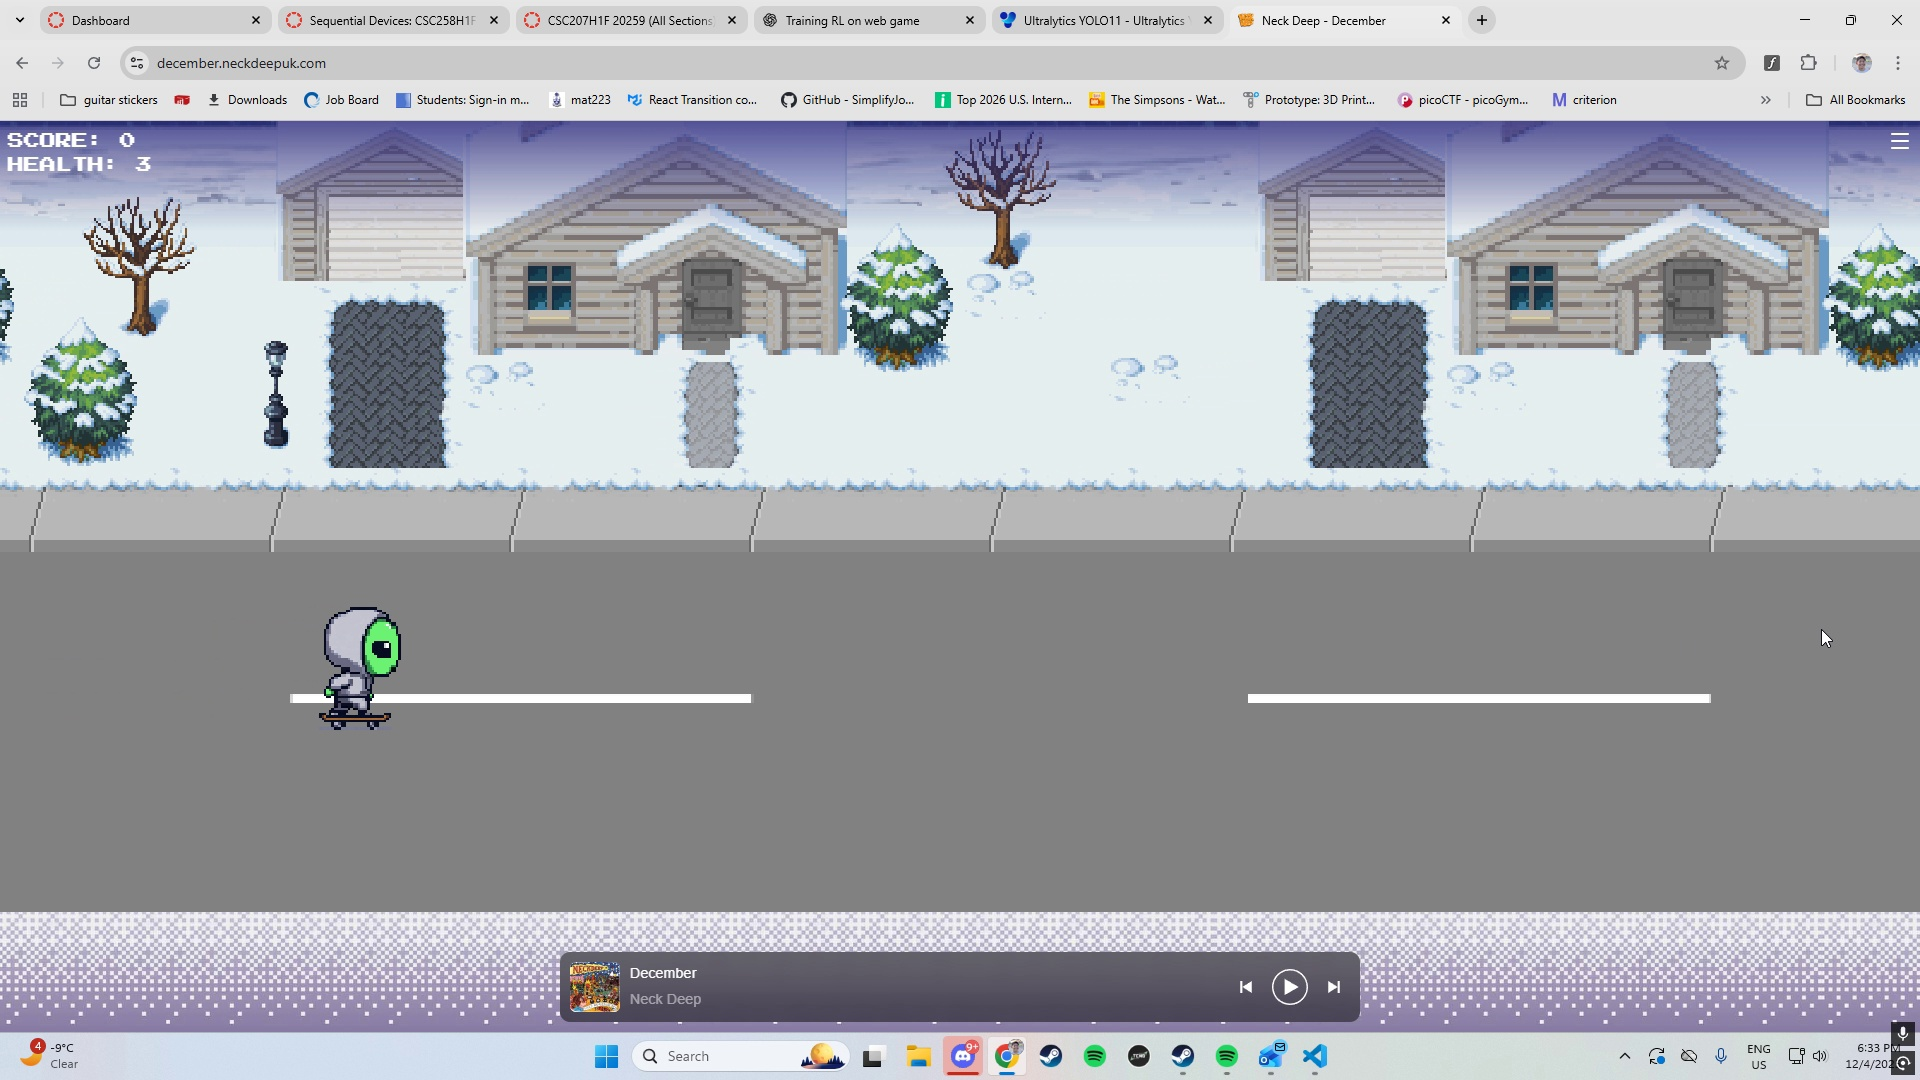Player: (288, 589, 423, 750)
